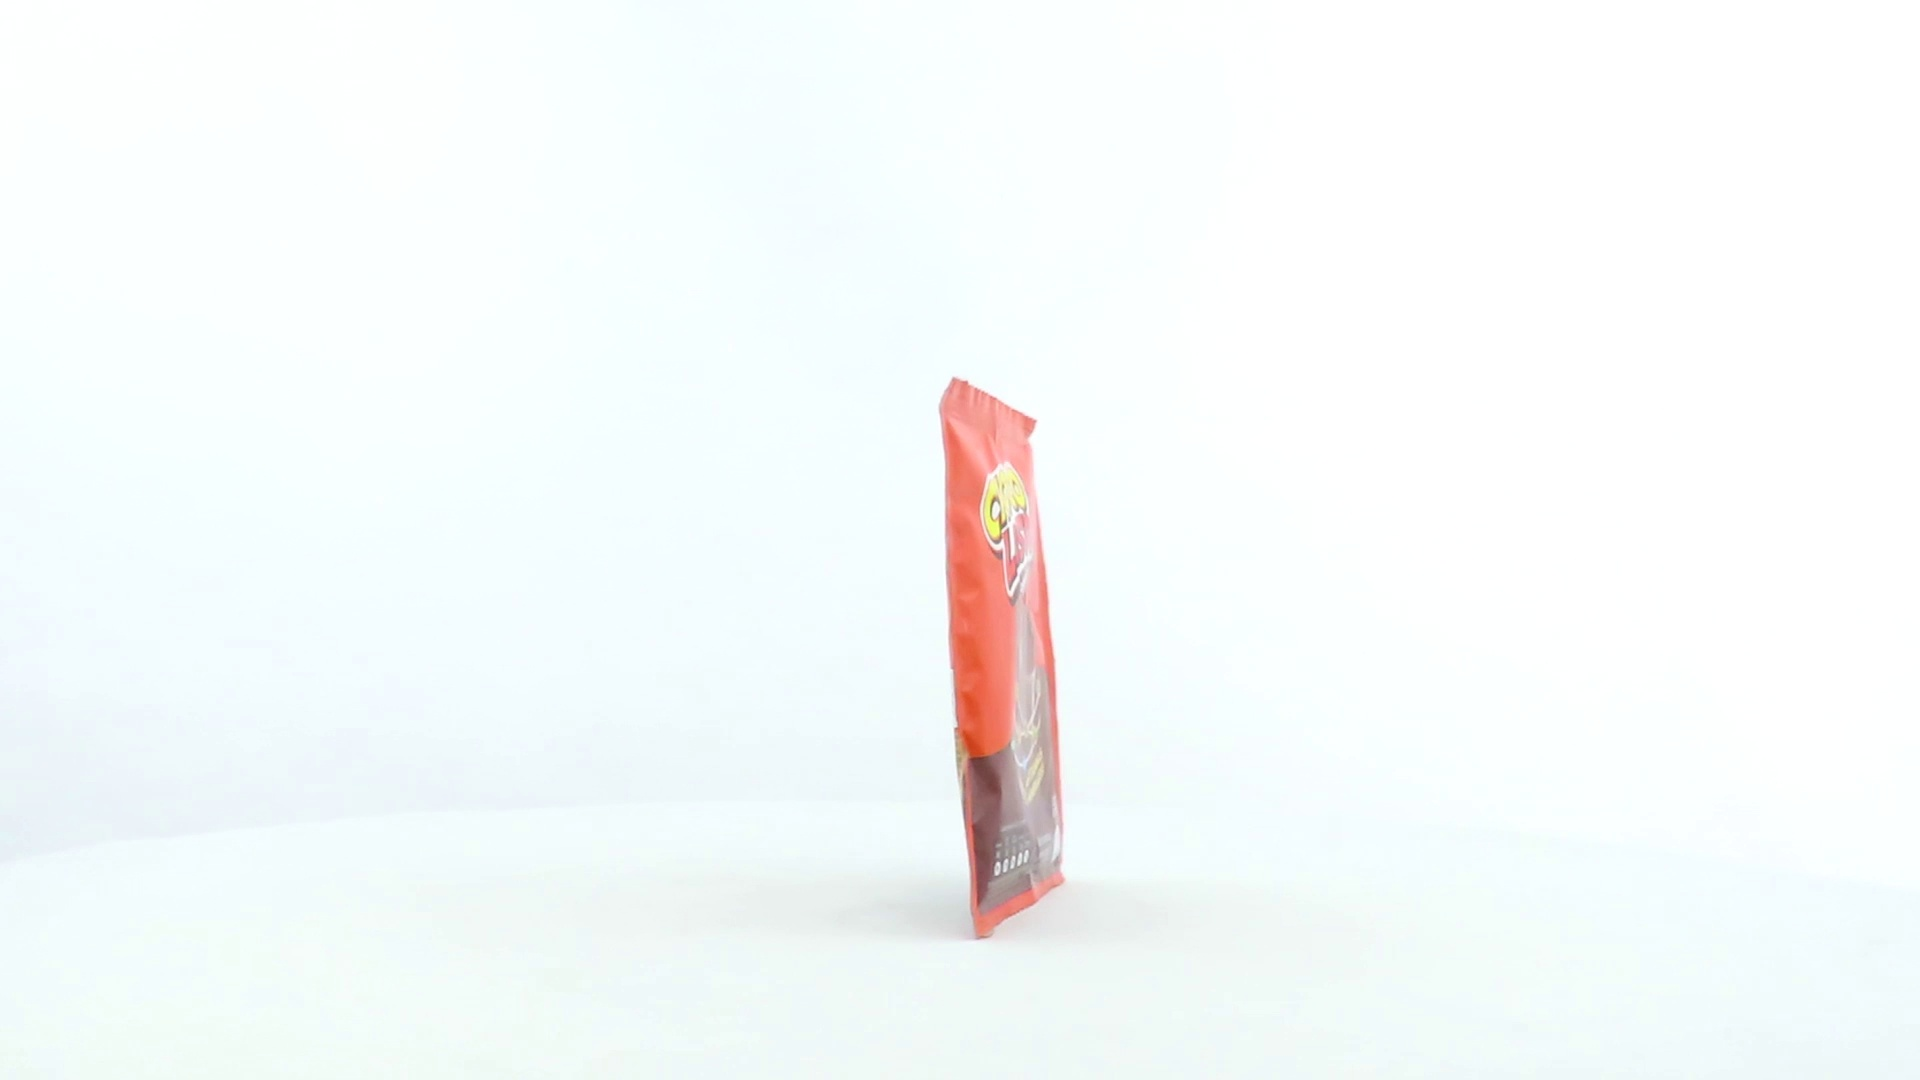COL0170103SOB02000: (882, 372, 1072, 948)
